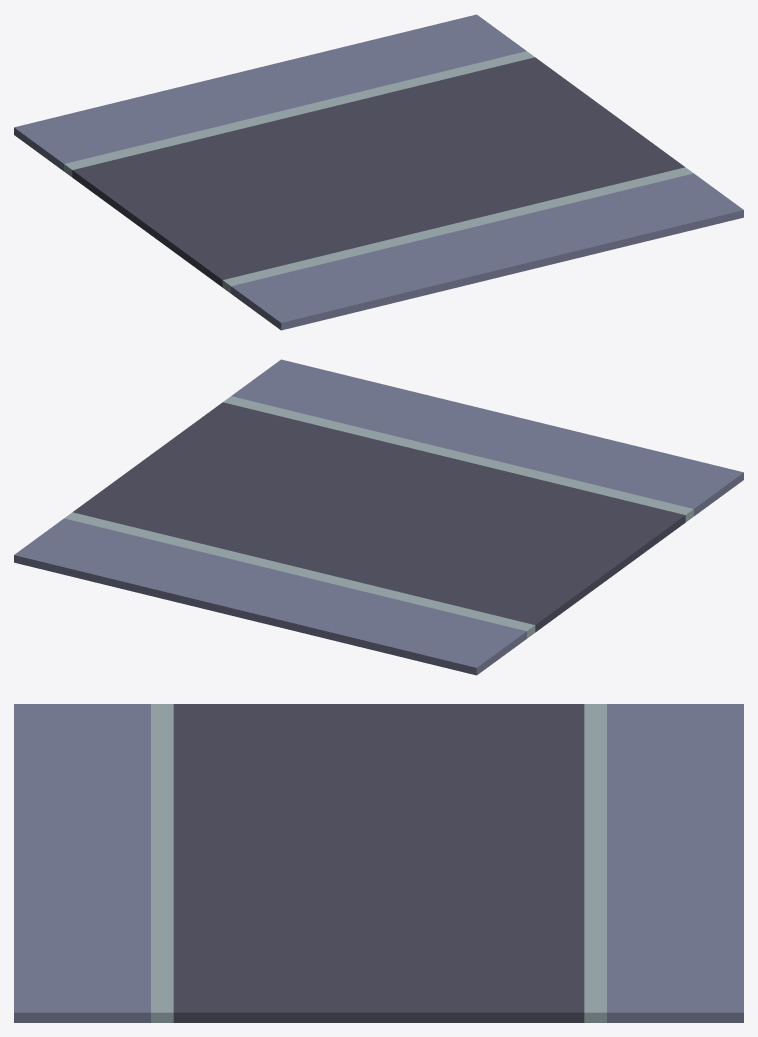
File: Ground_006.obj
The picture shows the model from 3 angles, top to bottom: view 1: azimuth 30°, elevation 25°; view 2: azimuth 150°, elevation 25°; view 3: azimuth 270°, elevation 25°; orthographic projection. The views are drawn at different scales.
Size of the model in its own units: 6.4 by 0.1 by 6.4.
Materials: 1 (1 with a texture image).
